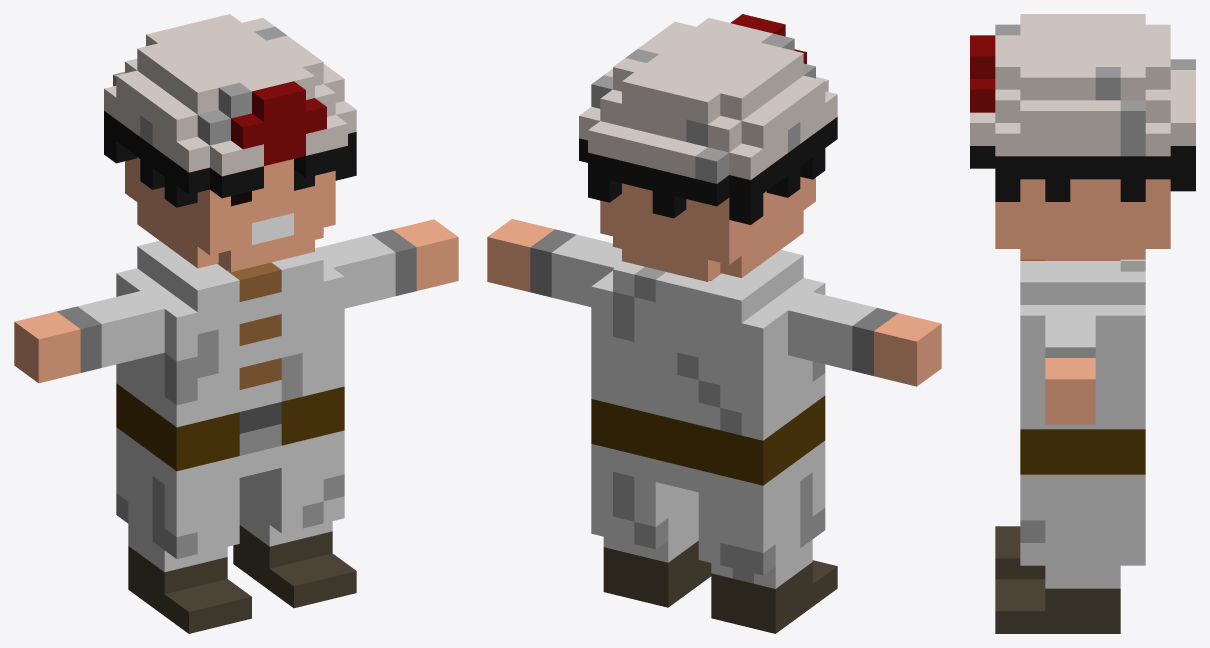
The model's file is White-3.obj.
3 renders of one model, left to right at view 1: azimuth 30°, elevation 25°; view 2: azimuth 150°, elevation 25°; view 3: azimuth 270°, elevation 25°, orthographic. The views are drawn at different scales.
Size of the model in its own units: 2 by 2.4 by 0.9.
1 material, 1 textured.
